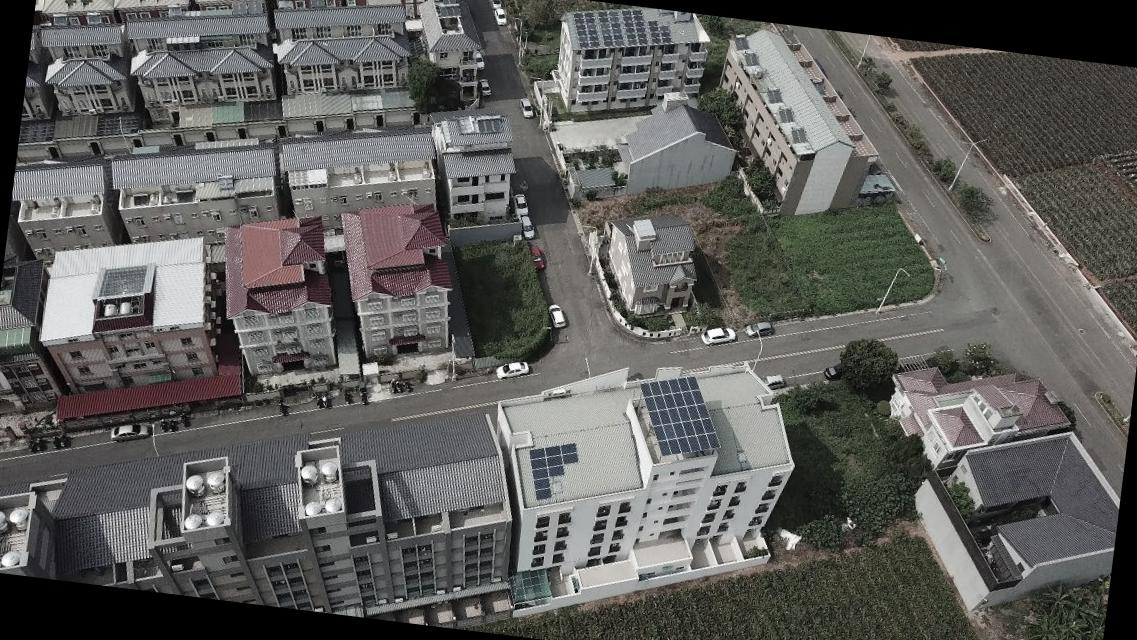vehicle: (108, 418, 151, 446), (700, 324, 737, 349), (495, 358, 528, 382), (544, 300, 568, 328), (527, 243, 546, 270), (516, 215, 536, 240), (745, 320, 772, 338), (510, 192, 530, 216), (758, 372, 785, 389), (822, 362, 843, 382), (518, 96, 534, 119), (478, 77, 493, 96), (492, 7, 506, 26), (473, 50, 486, 68), (486, 0, 502, 9)
